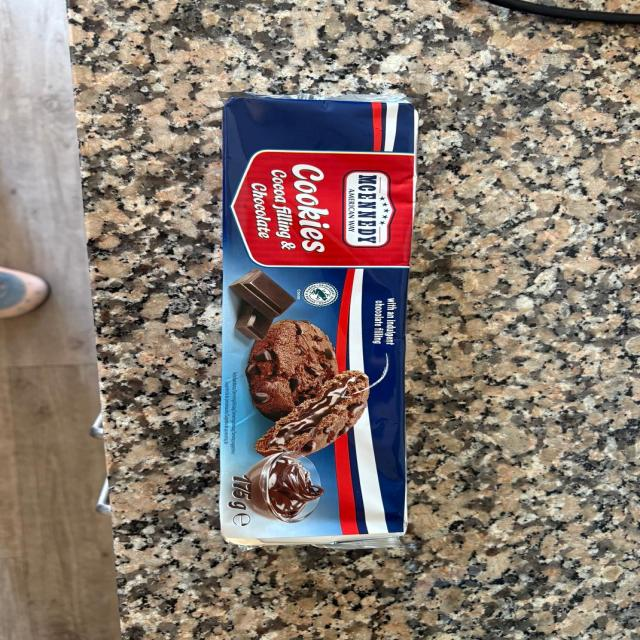good_package: (229, 99, 415, 551)
